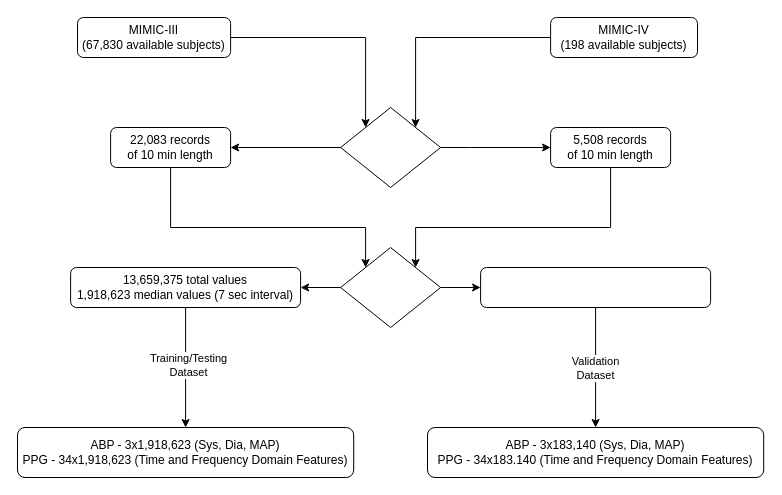
This 782x495 diagram has some shape labels left out. Here are the shapes that lost their labels. From the top down, the centre of each, then its label:
the point at 390,147: Data Fetching
the point at 390,287: Feature Extraction
the point at 595,287: 1,309,265 total values 183,140 median values (7 sec interval)
